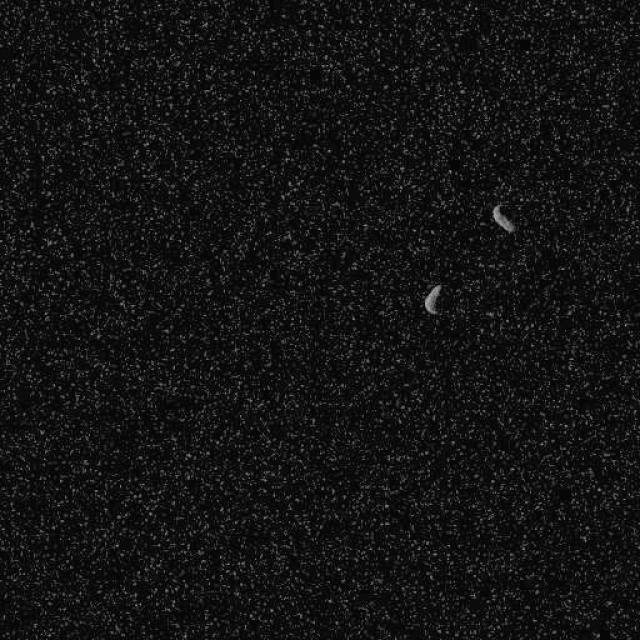D2: (490, 202, 516, 234), (422, 283, 442, 315)
